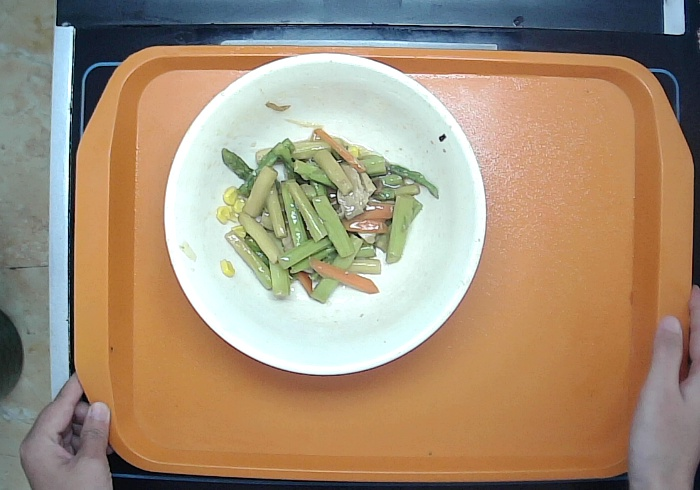ZNLD-Da_Tang_Wan: (159, 48, 495, 380)
